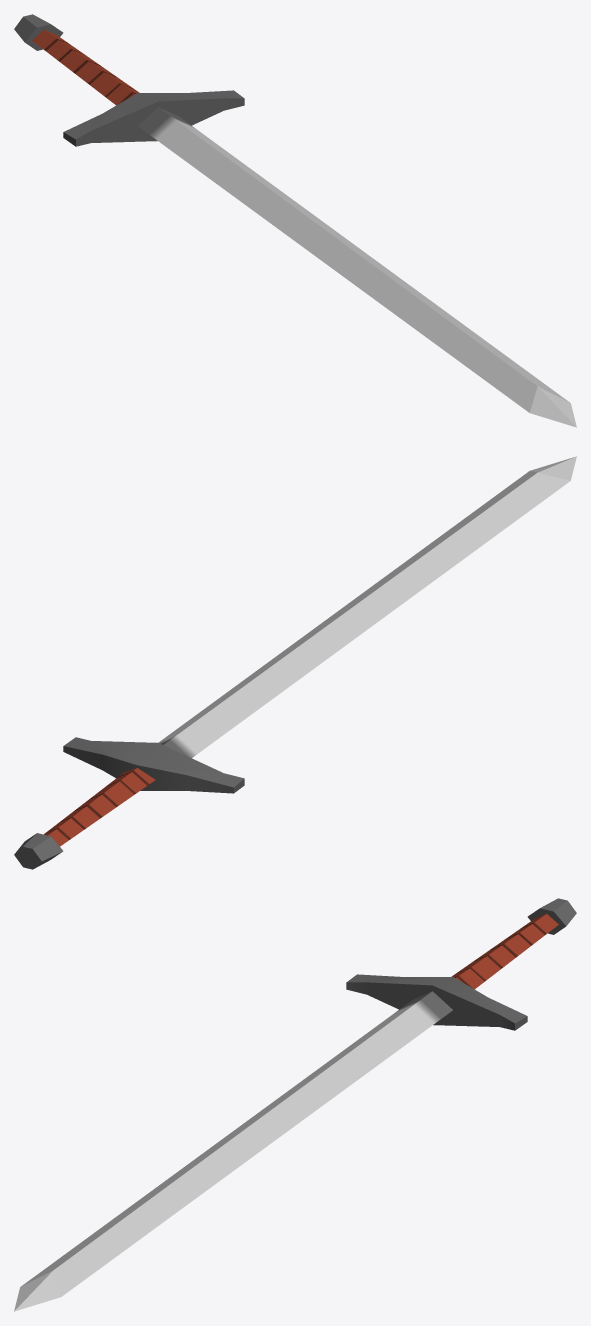
The model's file is SwordBasic_B.glb.
3 views of the same model, one above another, from view 1: azimuth 30°, elevation 25°; view 2: azimuth 150°, elevation 25°; view 3: azimuth 330°, elevation 25° (orthographic).
Visible parts, largest first — view 1: SwordBasic_B.001; view 2: SwordBasic_B.001; view 3: SwordBasic_B.001.
Part boxes in pixels (<box>): SwordBasic_B.001: <box>14,14,576,427</box>; SwordBasic_B.001: <box>14,456,576,869</box>; SwordBasic_B.001: <box>14,898,576,1311</box>.
Size of the model in its own units: 0.251 by 0.0559 by 1.4.
1 material, 1 textured.
